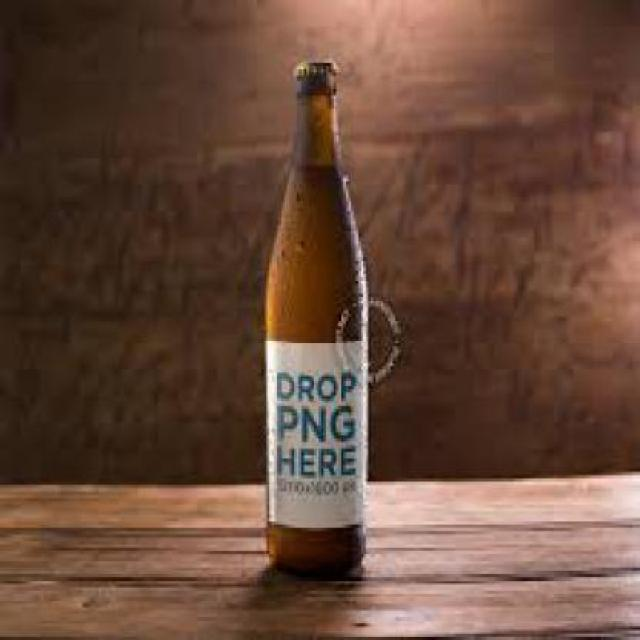GLASS: (262, 59, 366, 572)
METAL: (291, 56, 334, 70)
